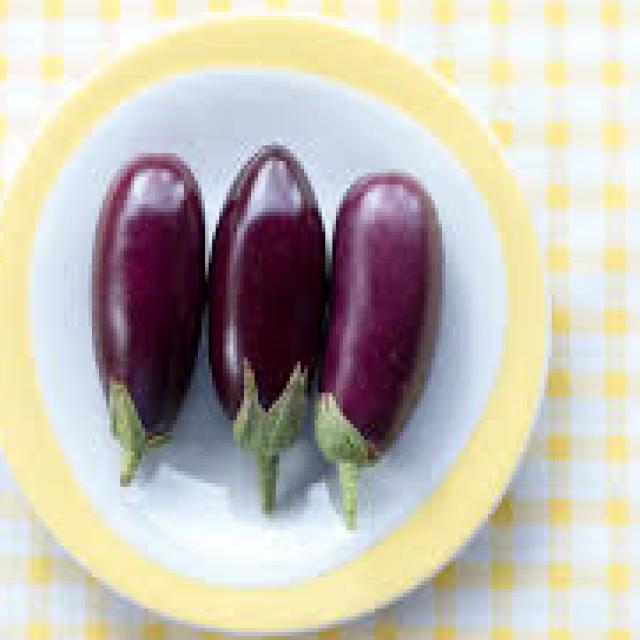inorganic: (56, 127, 467, 509)
